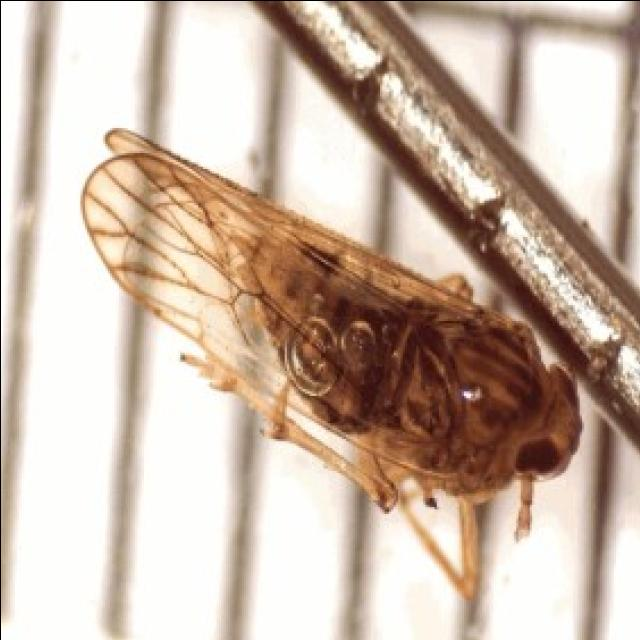brown plant hopper: (82, 127, 581, 595)
